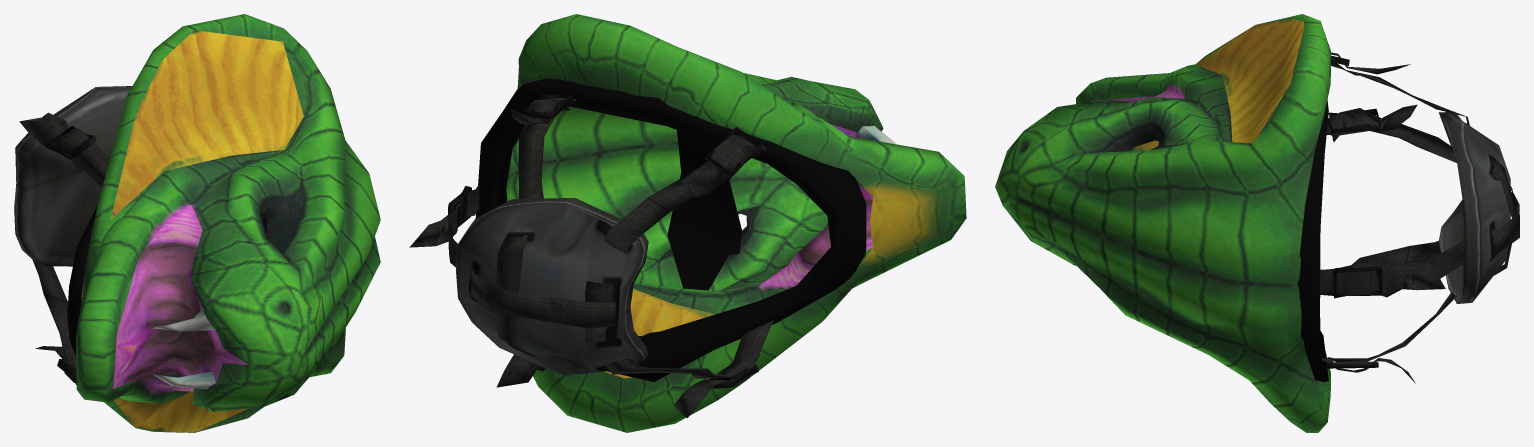
The model's file is F_CobraMask.fbx.
3 views of the same model, side by side, from view 1: azimuth 30°, elevation 25°; view 2: azimuth 150°, elevation 25°; view 3: azimuth 270°, elevation 25° (orthographic). The views are drawn at different scales.
Visible parts, largest first — view 1: CobraMask.001; view 2: CobraMask.001; view 3: CobraMask.001.
Part boxes in pixels (box(x1,y1,x2,y2)): CobraMask.001: box(14, 14, 380, 432); CobraMask.001: box(409, 14, 966, 432); CobraMask.001: box(995, 14, 1519, 432).
Size of the model in its own units: 0.168 by 0.1712 by 0.2104.
